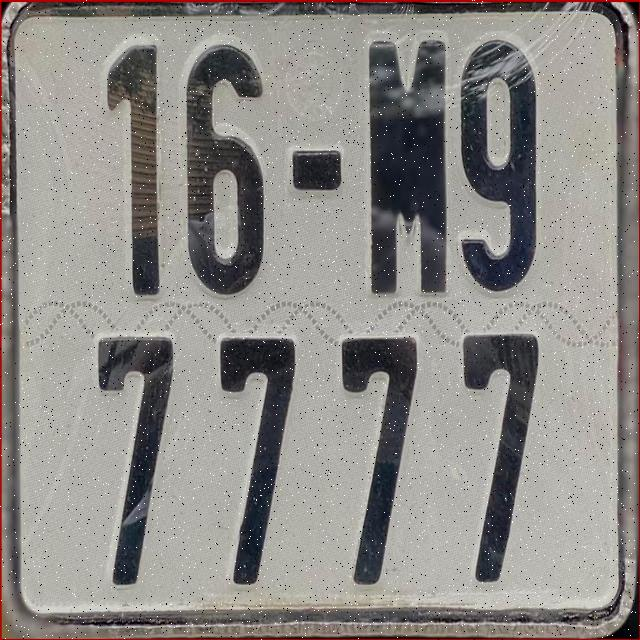1: (96, 34, 174, 301)
6: (175, 34, 276, 296)
7: (85, 319, 183, 592), (207, 318, 304, 592), (328, 320, 425, 590), (451, 320, 546, 588)
9: (452, 32, 546, 297)
M: (359, 27, 448, 294)
